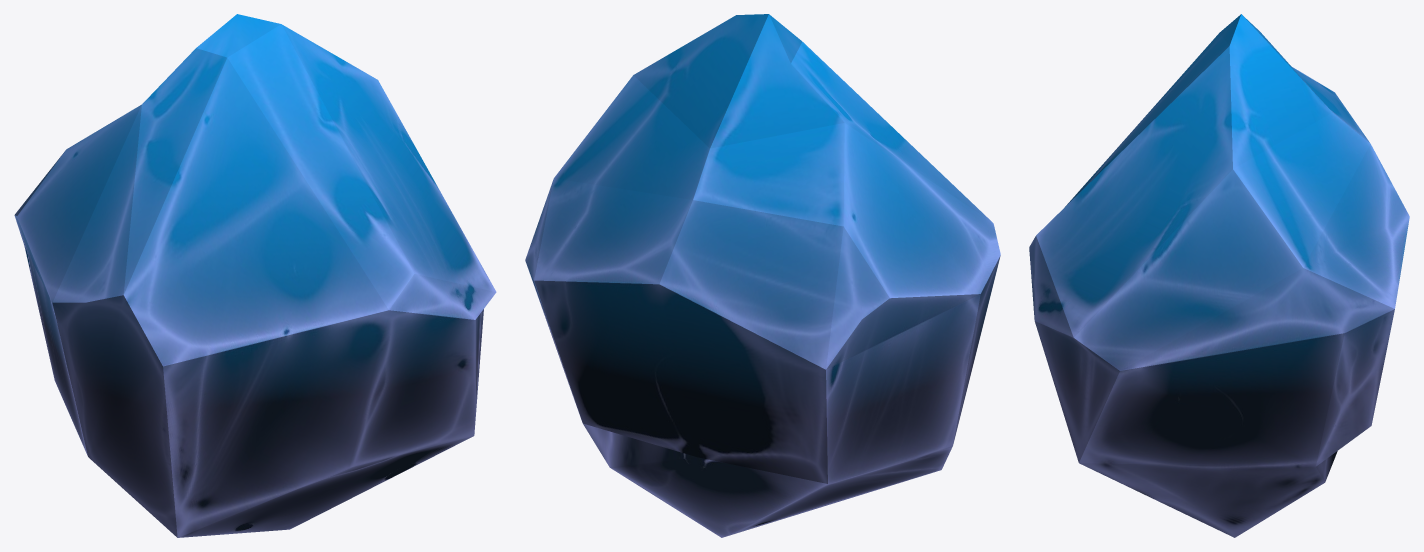
Rendered from blue-crystal.glb.
3 renders of one model, left to right at view 1: azimuth 30°, elevation 25°; view 2: azimuth 150°, elevation 25°; view 3: azimuth 270°, elevation 25°, orthographic. The views are drawn at different scales.
Visible parts, largest first — view 1: Blue_CrystalLP; view 2: Blue_CrystalLP; view 3: Blue_CrystalLP.
Part boxes in pixels (x1=…): Blue_CrystalLP: x1=14, y1=14, x2=496, y2=537; Blue_CrystalLP: x1=525, y1=14, x2=1000, y2=537; Blue_CrystalLP: x1=1029, y1=14, x2=1409, y2=537.
Size of the model in its own units: 0.0113 by 0.015 by 0.0103.
Materials: 1 (1 with a texture image).
